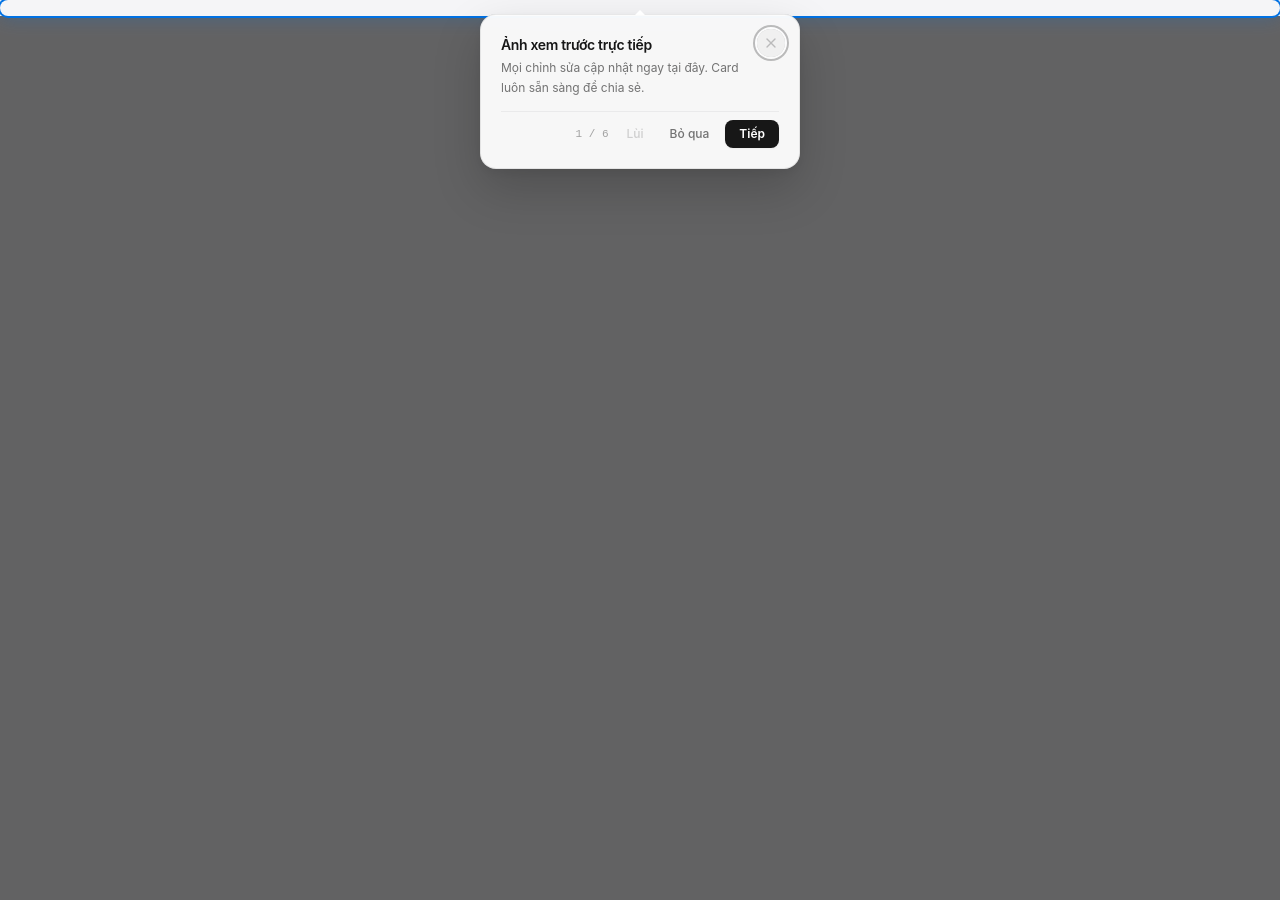
OnboardingTour › next walks forward through the six steps
Expected: the text "Ảnh xem trước trực tiếp" is shown, [501,36,652,53]
Click the button "Tiếp": (752, 134) [725,120,779,148]
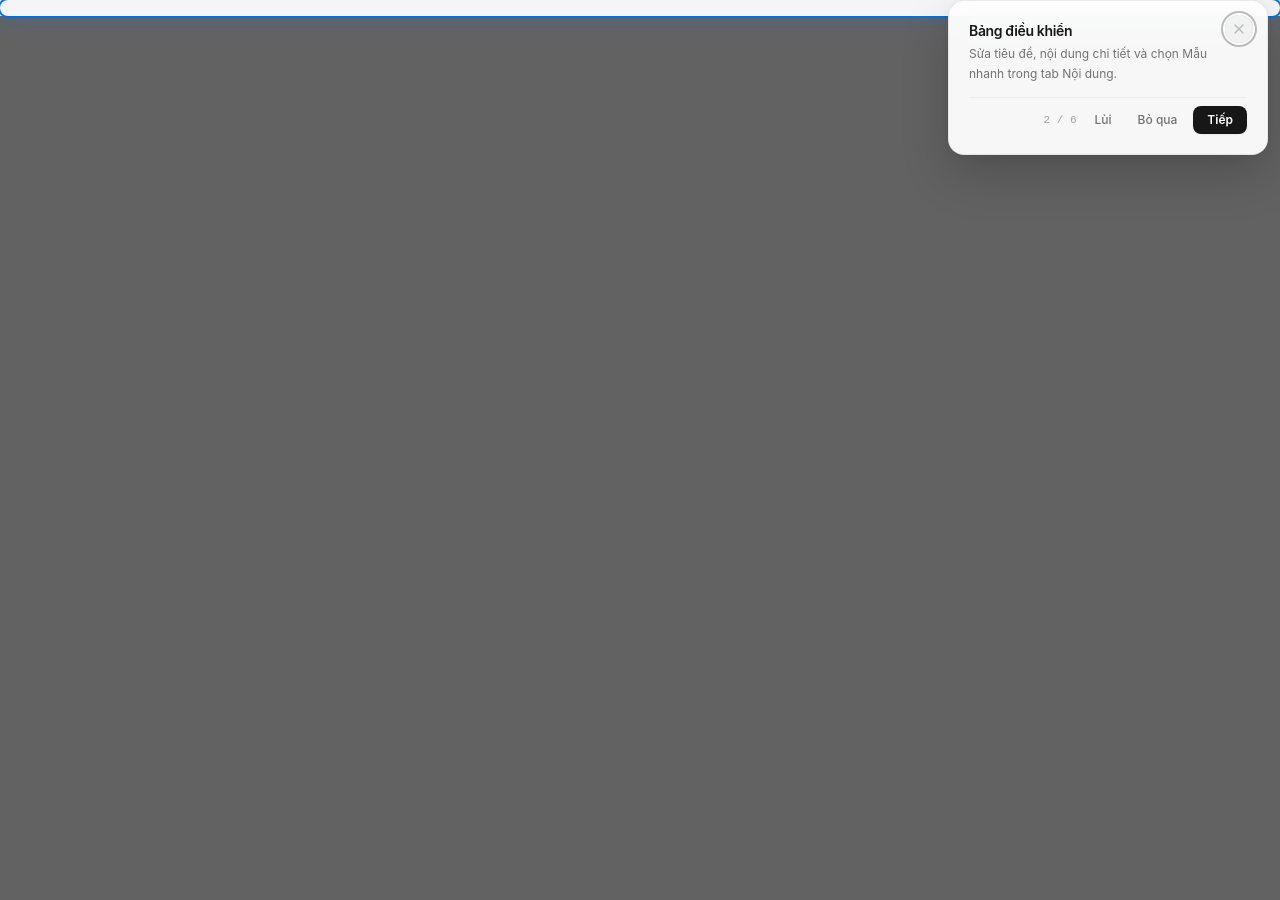
Expected: the text "Bảng điều khiển" is shown, [969,22,1072,39]
Expected: the text "2 / 6" is shown, [1044,112,1076,128]
Expected: the button "Lùi" is enabled, [1084,106,1122,134]
Click the button "Tiếp": (1220, 120) [1193,106,1247,134]
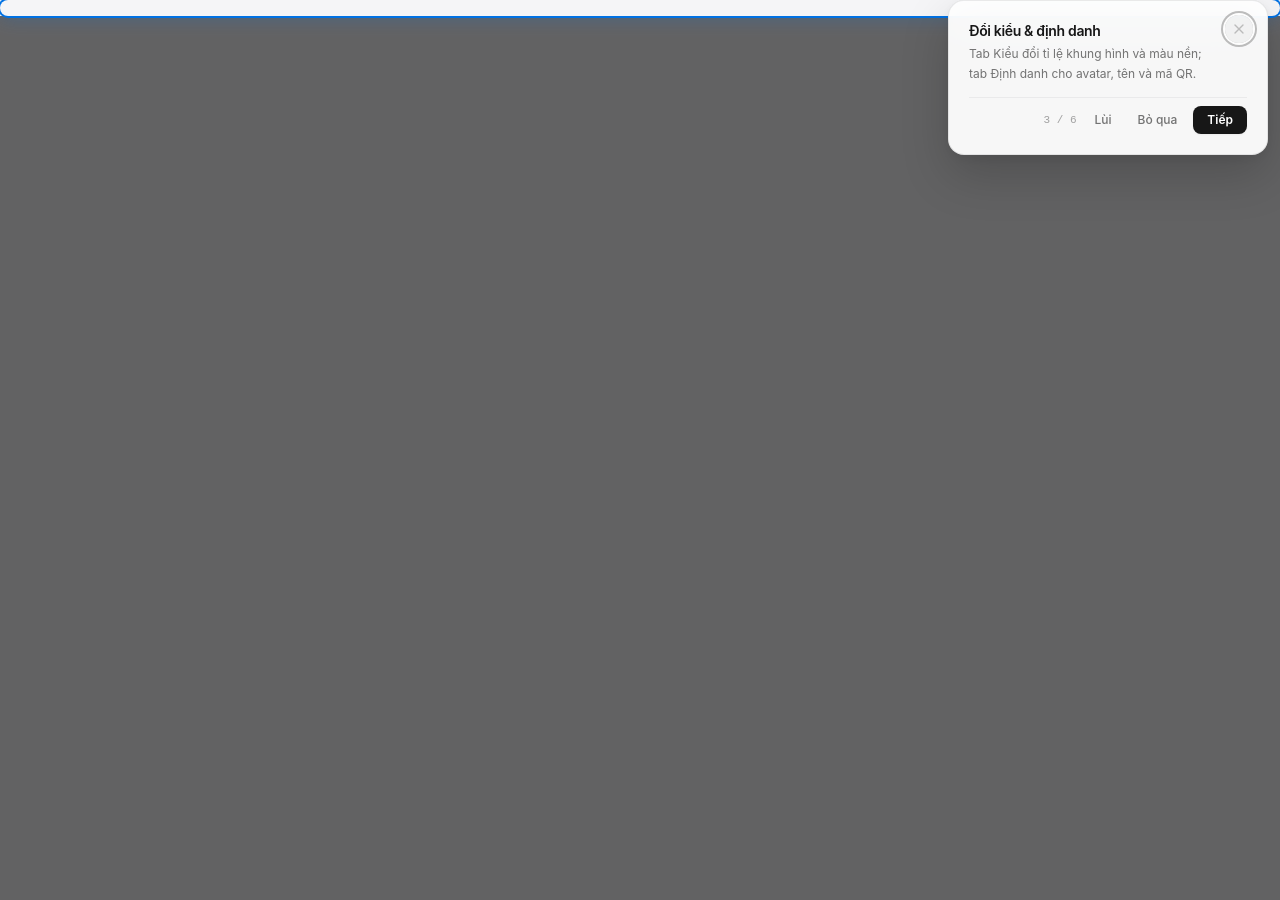
Expected: the text "Đổi kiểu & định danh" is shown, [969,22,1100,39]
Click the button "Tiếp": (1220, 120) [1193,106,1247,134]
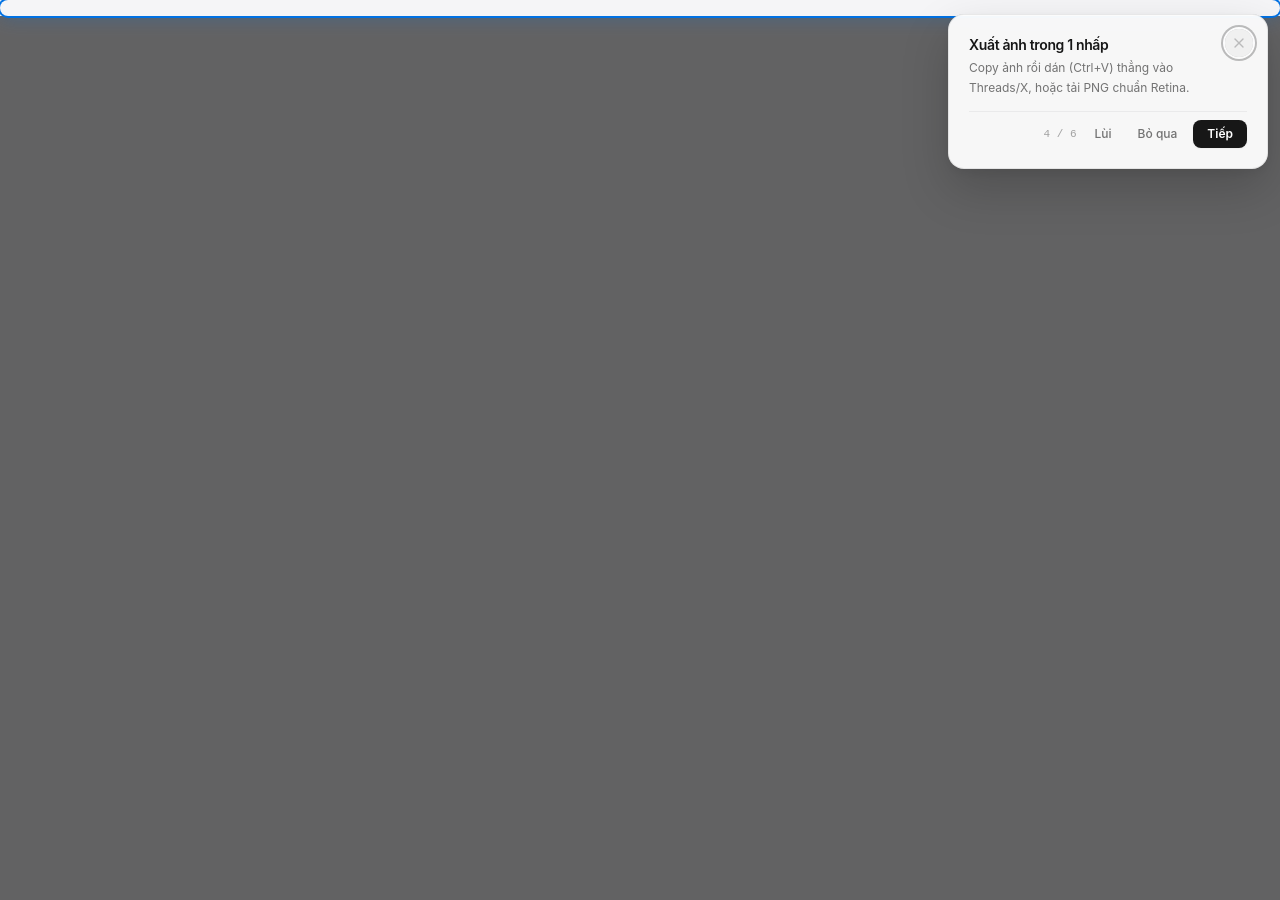
Expected: the text "Xuất ảnh trong 1 nhấp" is shown, [969,36,1108,53]
Expected: the text "4 / 6" is shown, [1044,126,1076,142]
Click the button "Tiếp": (1220, 134) [1193,120,1247,148]
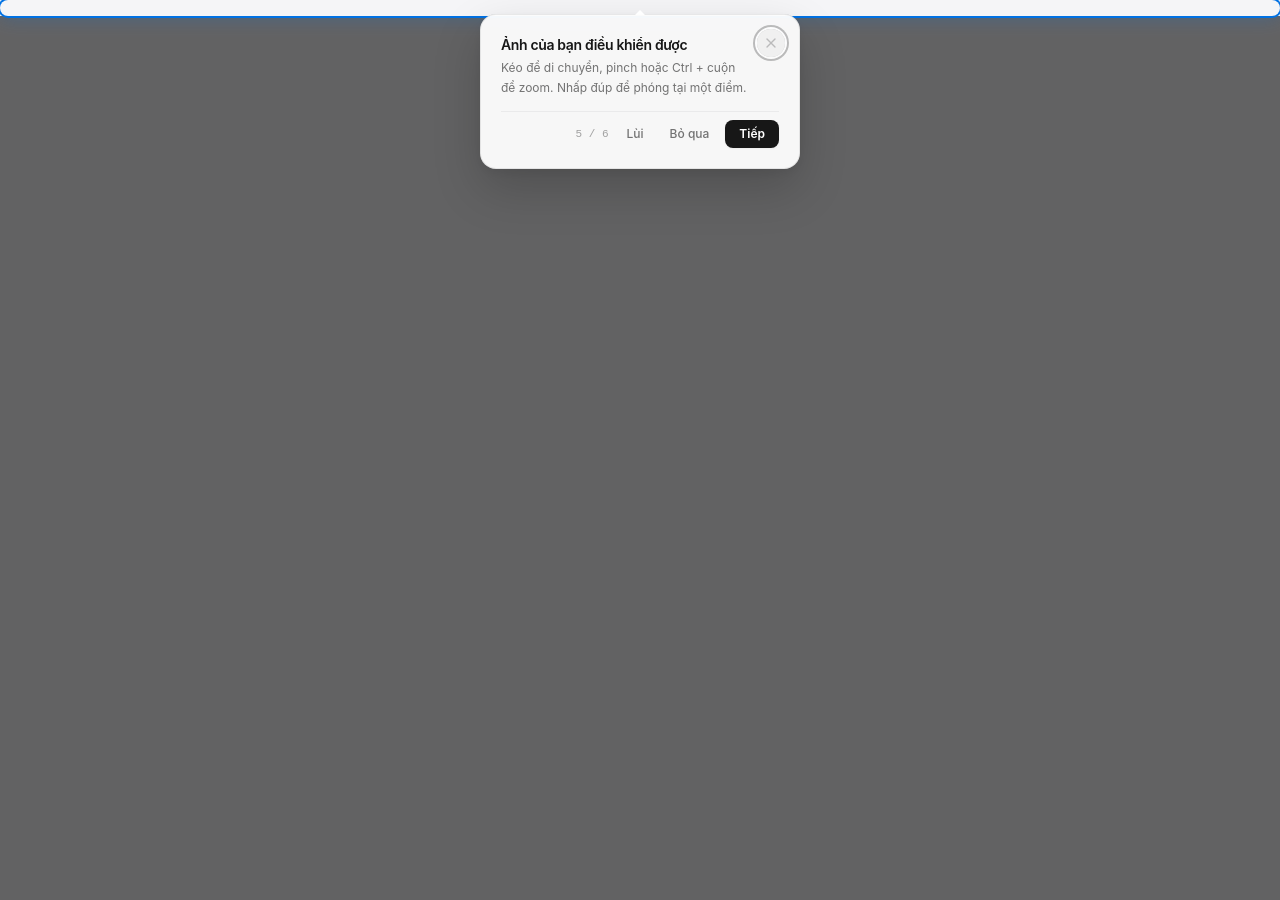
Expected: the text "Ảnh của bạn điều khiển được" is shown, [501,36,687,53]
Click the button "Tiếp": (752, 134) [725,120,779,148]
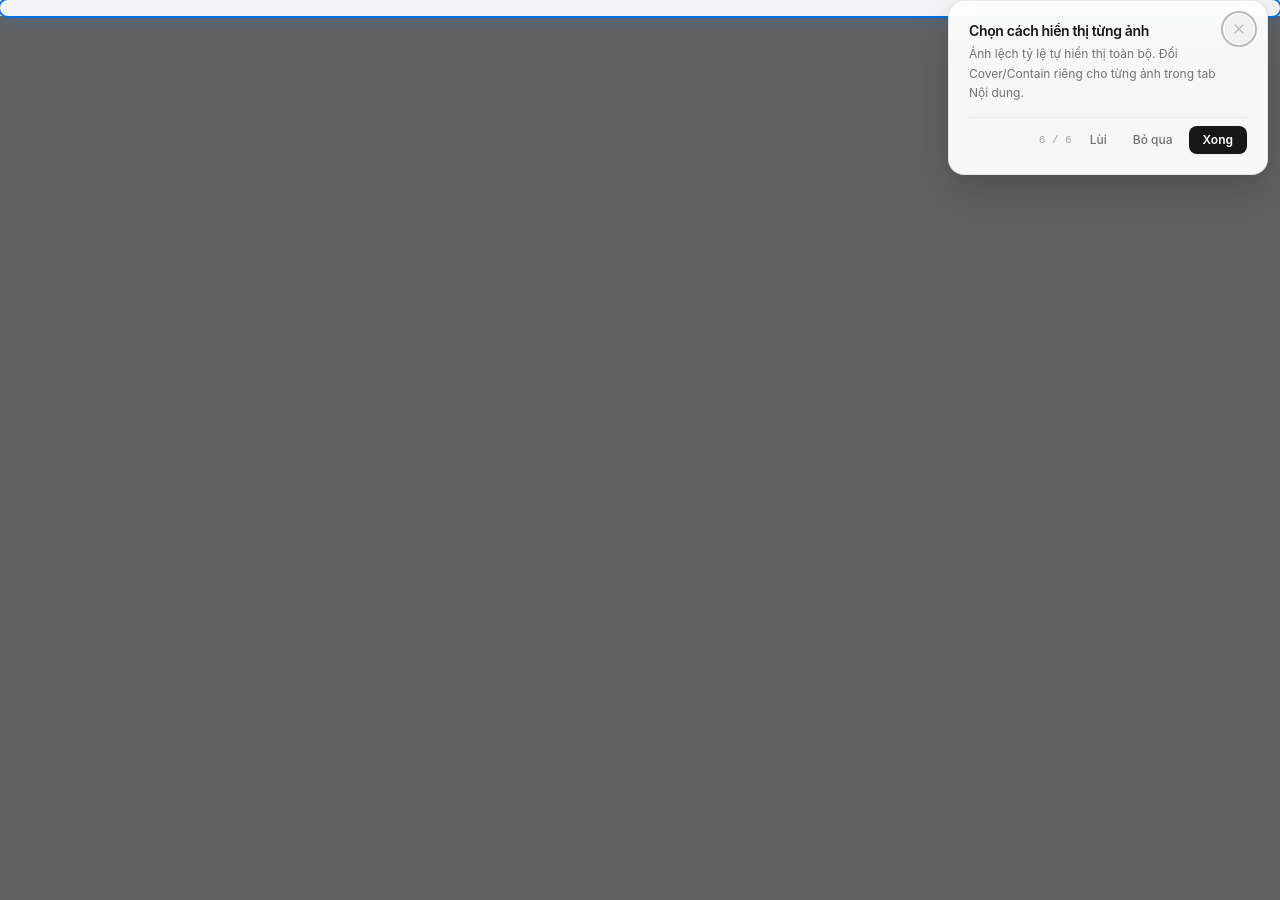
Expected: the text "Chọn cách hiển thị từng ảnh" is shown, [969,22,1149,39]
Expected: the text "6 / 6" is shown, [1039,132,1072,148]
